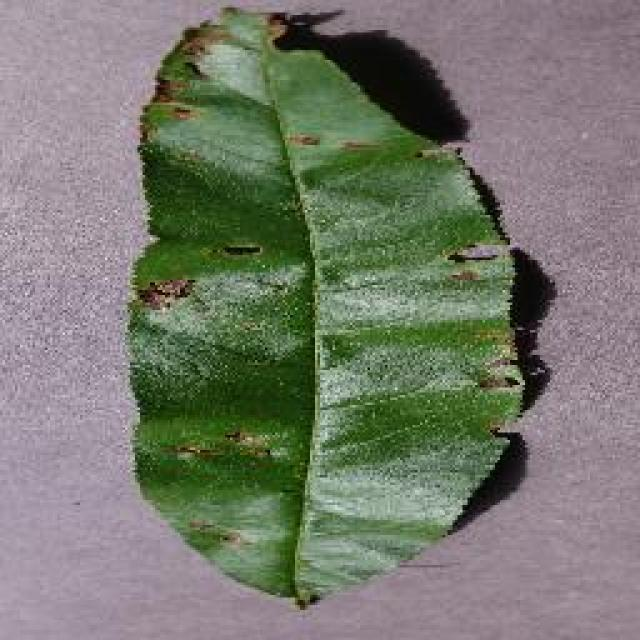Peach_Bacterial_Spot: (148, 18, 494, 500)
